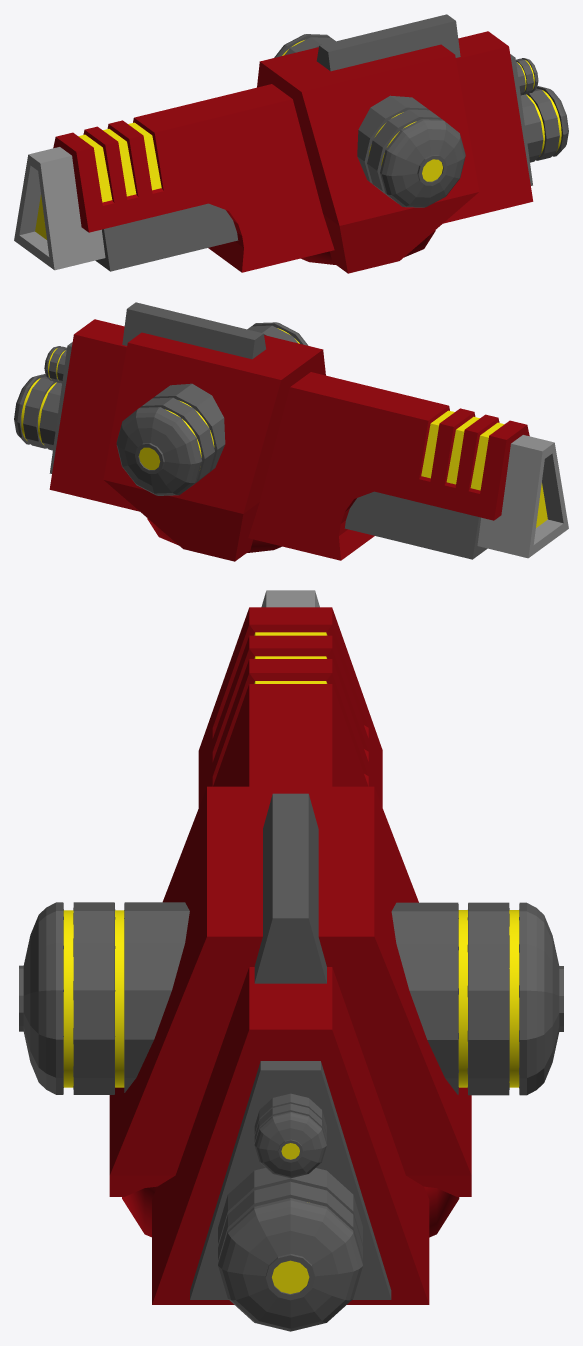
Rendered from Turret_Top_Lvl2.fbx.
3 renders of one model, top to bottom at view 1: azimuth 30°, elevation 25°; view 2: azimuth 150°, elevation 25°; view 3: azimuth 270°, elevation 25°, orthographic. The views are drawn at different scales.
Visible parts, largest first — view 1: Gun Barrel Ext.003, Turret Gun Base.001, Gun Side Piece L, Gun Barrel Inner.003, Gun Barrel Mid.003, Gun Sight.002, Gun Side Piece L.002, Cube, Gun Side Piece L.001, Gun Side Piece L.003, Gun Back panel.003, Gun Bottom.002 (+1 smaller); view 2: Gun Barrel Ext.003, Turret Gun Base.001, Gun Side Piece L.001, Gun Barrel Inner.003, Gun Barrel Mid.003, Gun Sight.002, Gun Side Piece L.002, Cube, Gun Side Piece L, Gun Side Piece L.003, Gun Back panel.003, Gun Bottom.002 (+2 smaller); view 3: Turret Gun Base.001, Gun Barrel Ext.003, Gun Side Piece L.001, Gun Side Piece L, Gun Side Piece L.002, Gun Sight.002, Gun Back panel.003, Gun Side Piece L.003, Cylinder, Cylinder.004, Gun Bottom.002, Gun Barrel Inner.003 (+1 smaller).
Boxes of the visible parts, left/top/right/bottom form: Gun Barrel Ext.003: left=53, top=31, right=533, bottom=272; Turret Gun Base.001: left=257, top=44, right=479, bottom=273; Gun Side Piece L: left=357, top=95, right=465, bottom=207; Gun Barrel Inner.003: left=14, top=147, right=105, bottom=270; Gun Barrel Mid.003: left=95, top=203, right=238, bottom=271; Gun Sight.002: left=316, top=14, right=460, bottom=71; Gun Side Piece L.002: left=521, top=86, right=568, bottom=162; Cube: left=78, top=122, right=161, bottom=202; Gun Side Piece L.001: left=274, top=34, right=335, bottom=57; Gun Side Piece L.003: left=516, top=58, right=538, bottom=95; Gun Back panel.003: left=510, top=54, right=532, bottom=185; Gun Bottom.002: left=301, top=230, right=435, bottom=264; Gun Barrel Ext.003: left=49, top=319, right=529, bottom=560; Turret Gun Base.001: left=103, top=332, right=325, bottom=561; Gun Side Piece L.001: left=116, top=383, right=225, bottom=495; Gun Barrel Inner.003: left=477, top=435, right=568, bottom=558; Gun Barrel Mid.003: left=344, top=491, right=487, bottom=559; Gun Sight.002: left=122, top=302, right=265, bottom=359; Gun Side Piece L.002: left=14, top=374, right=61, bottom=450; Cube: left=421, top=410, right=504, bottom=490; Gun Side Piece L: left=247, top=322, right=308, bottom=345; Gun Side Piece L.003: left=44, top=346, right=66, bottom=383; Gun Back panel.003: left=49, top=342, right=72, bottom=473; Gun Bottom.002: left=147, top=518, right=281, bottom=552; Turret Gun Base.001: left=109, top=786, right=471, bottom=1196; Gun Barrel Ext.003: left=152, top=607, right=429, bottom=1304; Gun Side Piece L.001: left=391, top=902, right=563, bottom=1095; Gun Side Piece L: left=19, top=902, right=189, bottom=1094; Gun Side Piece L.002: left=218, top=1168, right=362, bottom=1331; Gun Sight.002: left=254, top=793, right=326, bottom=983; Gun Back panel.003: left=190, top=1061, right=391, bottom=1299; Gun Side Piece L.003: left=254, top=1093, right=326, bottom=1178; Cylinder: left=63, top=910, right=124, bottom=1087; Cylinder.004: left=458, top=910, right=519, bottom=1087; Gun Bottom.002: left=122, top=1186, right=459, bottom=1237; Gun Barrel Inner.003: left=261, top=590, right=319, bottom=607.
Bounding box in the file's own units: 458 × 158 × 206.
